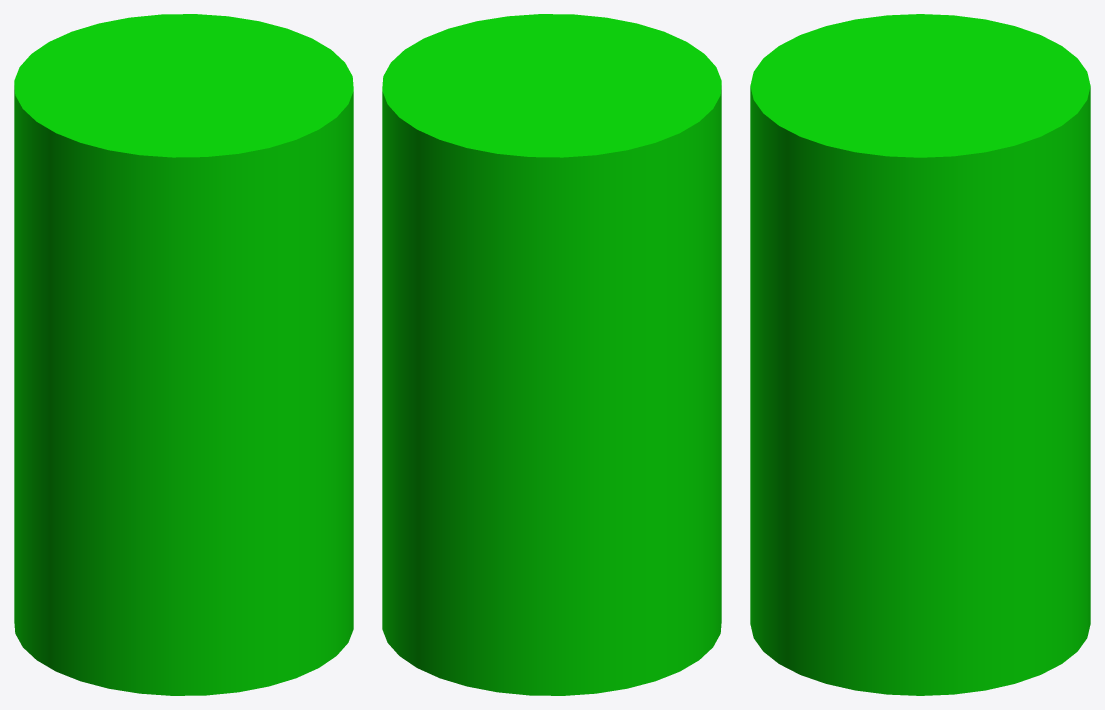
The model's file is 1_cilindro.gltf.
The picture shows the model from 3 angles, left to right: view 1: azimuth 30°, elevation 25°; view 2: azimuth 150°, elevation 25°; view 3: azimuth 270°, elevation 25°; orthographic projection.
Visible parts, largest first — view 1: 1_cilindro; view 2: 1_cilindro; view 3: 1_cilindro.
Boxes of the visible parts, x1,y1,x2,y2 form: 1_cilindro: (14, 14, 353, 695); 1_cilindro: (382, 14, 721, 695); 1_cilindro: (750, 14, 1090, 695).
Size of the model in its own units: 0.1222 by 0.2133 by 0.1222.
